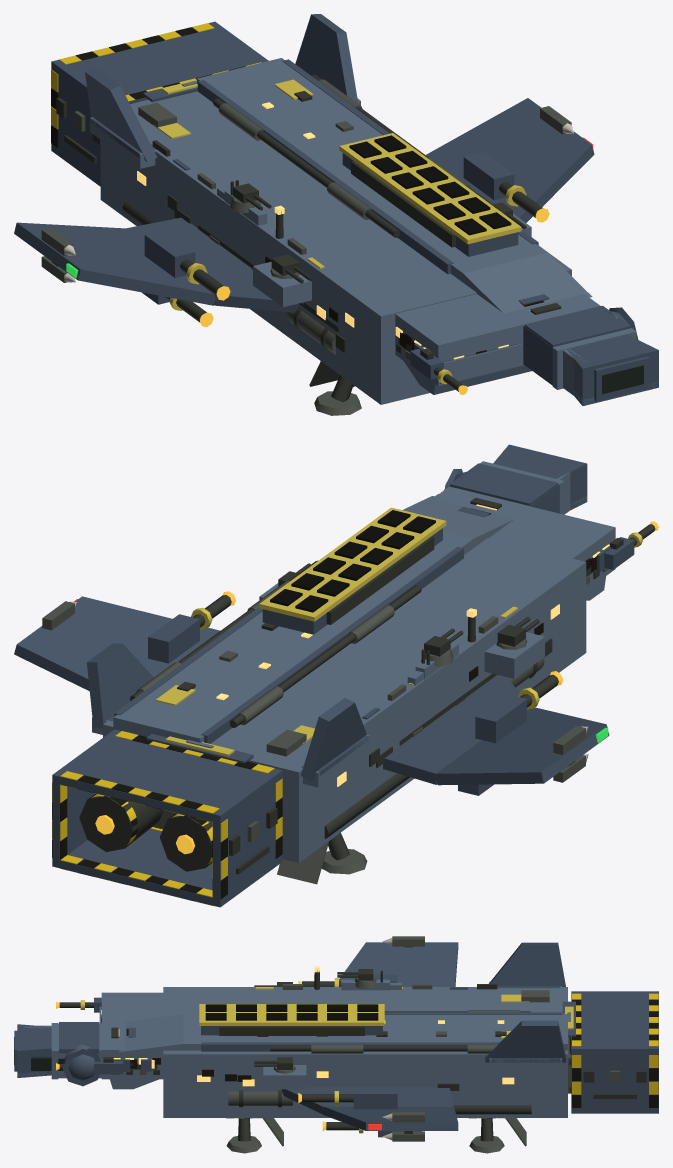
The model's file is navy-m(1).glb.
3 views of the same model, one above another, from view 1: azimuth 30°, elevation 25°; view 2: azimuth 150°, elevation 25°; view 3: azimuth 270°, elevation 25° (orthographic). The views are drawn at different scales.
Parts seen in each view (by area): view 1: hullMain, dorsalBump, wingOuterRight, shroudPlateTop, hullNose, wingOuterLeft, dorsalBumpNose, vlsRim, wingInnerLeft, cannonHousing (×3), stabilizerFinR, hullNoseTip (+21 smaller); view 2: hullMain, dorsalBump, shroudPlateTop, wingOuterRight, wingOuterLeft, hullNose, shroudPlateBottom, wingInnerLeft, engineHousing (×2), vlsRim, cannonHousing (×2), shroudPlateLeft (+20 smaller); view 3: hullMain, dorsalBump, shroudPlateTop, wingOuterLeft, hullNose, shroudPlateRight, stabilizerFinL, dorsalBumpNose, wingOuterRight, vlsRim, stabilizerFinR, wingInnerRight (+25 smaller).
Part boxes in pixels (x1,y1,x2,y2): hullMain: (100, 91, 571, 404); dorsalBump: (197, 58, 538, 275); wingOuterRight: (426, 98, 594, 222); shroudPlateTop: (51, 21, 268, 103); hullNose: (395, 294, 600, 385); wingOuterLeft: (14, 222, 215, 305); dorsalBumpNose: (451, 246, 592, 313); vlsRim: (339, 133, 521, 244); wingInnerLeft: (126, 217, 298, 312); cannonHousing (×3): (144, 152, 514, 379); stabilizerFinR: (295, 14, 358, 103); hullNoseTip: (566, 334, 658, 405); hullMain: (103, 538, 586, 862); dorsalBump: (113, 540, 464, 742); shroudPlateTop: (52, 729, 282, 823); wingOuterRight: (14, 596, 220, 690); wingOuterLeft: (435, 707, 609, 785); hullNose: (433, 486, 615, 590); shroudPlateBottom: (52, 829, 282, 907); wingInnerLeft: (383, 675, 519, 784); engineHousing (×2): (79, 793, 212, 871); vlsRim: (259, 507, 446, 621); cannonHousing (×2): (148, 614, 526, 743); shroudPlateLeft: (213, 778, 282, 899); hullMain: (163, 987, 567, 1117); dorsalBump: (196, 1014, 567, 1050); shroudPlateTop: (571, 991, 658, 1054); wingOuterLeft: (339, 942, 458, 986); hullNose: (101, 992, 163, 1079); shroudPlateRight: (571, 1054, 658, 1107); stabilizerFinL: (489, 942, 565, 986); dorsalBumpNose: (119, 1014, 207, 1052); wingOuterRight: (323, 1106, 458, 1130); vlsRim: (199, 1004, 384, 1025); stabilizerFinR: (485, 1020, 566, 1062); wingInnerRight: (281, 1087, 453, 1114).
Bounding box in the file's own units: 5.01 × 1.72 × 7.49.
